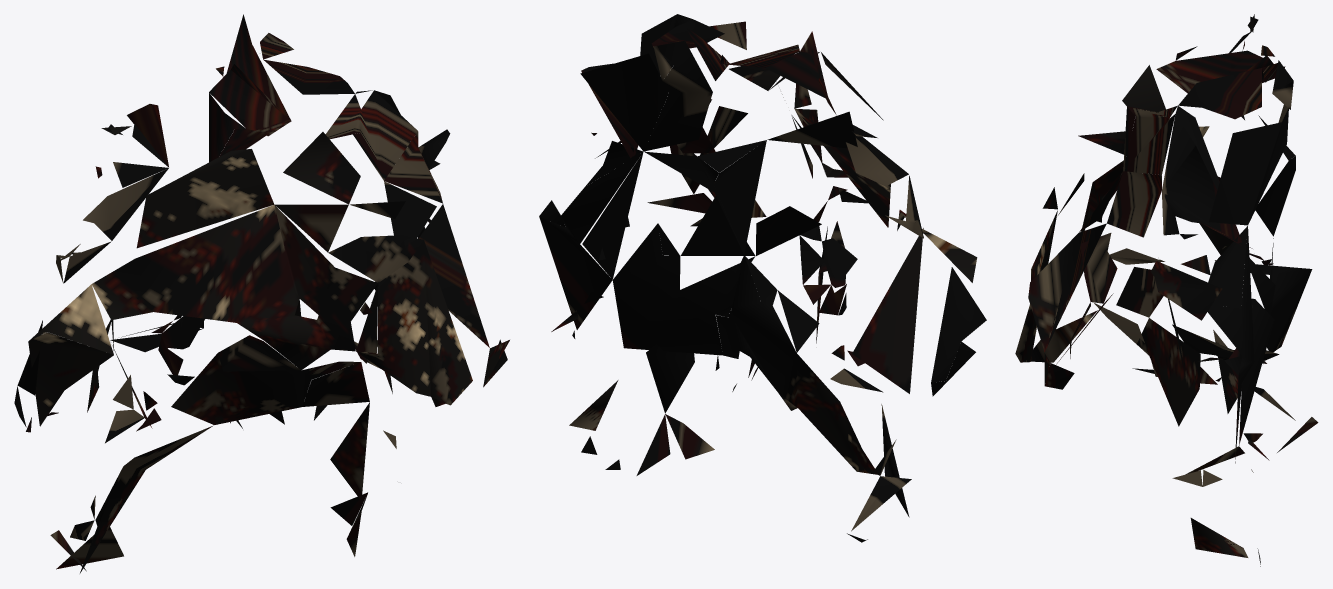
The picture shows the model from 3 angles, left to right: view 1: azimuth 30°, elevation 25°; view 2: azimuth 150°, elevation 25°; view 3: azimuth 270°, elevation 25°; orthographic projection. The views are drawn at different scales.
Visible parts, largest first — view 1: body.002; view 2: body.002; view 3: body.002.
Part boxes in pixels (x1,y1,x2,y2): body.002: [14, 14, 509, 573]; body.002: [539, 14, 986, 542]; body.002: [1015, 14, 1318, 566].
Size of the model in its own units: 1.9 by 2.12 by 1.15.
1 material, 1 textured.
